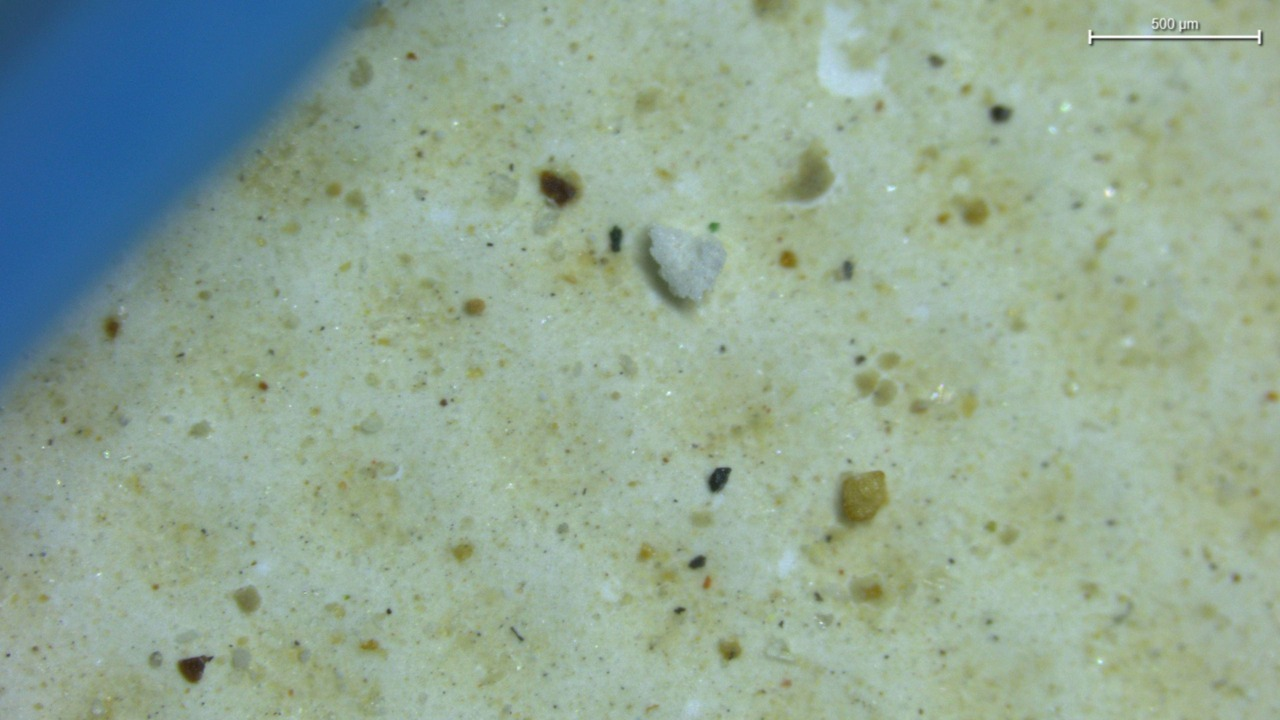microplastic_fragment: (649, 224, 726, 303), (840, 471, 888, 522)
